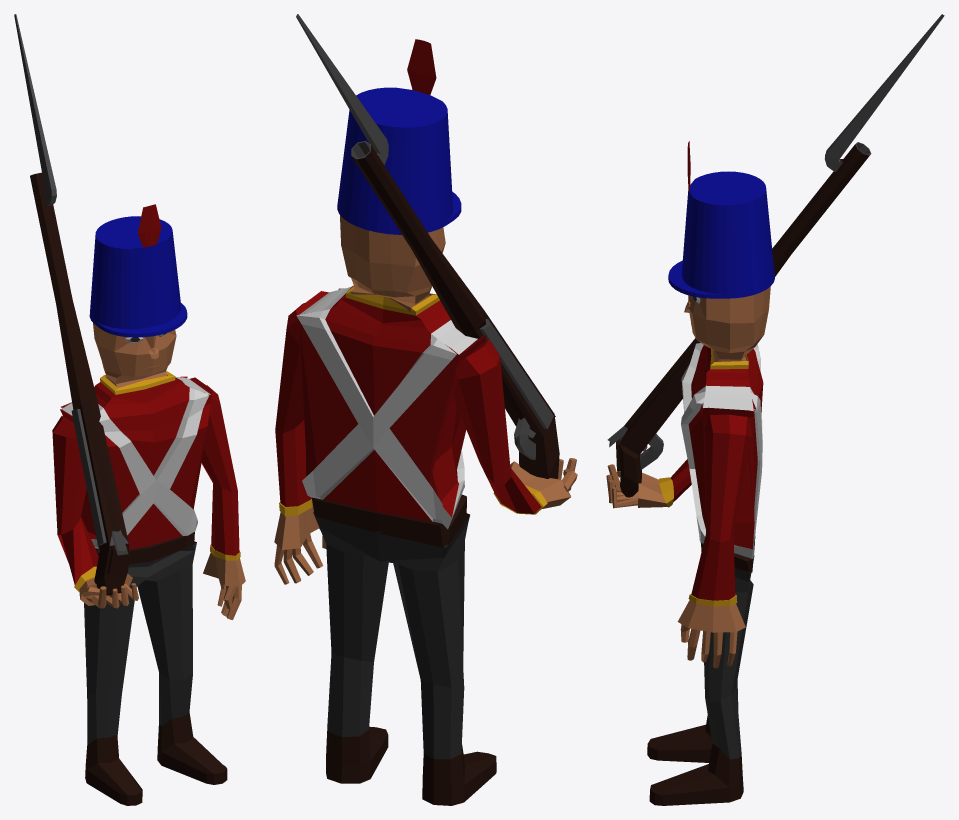
The model's file is Frame4.obj.
The picture shows the model from 3 angles, left to right: view 1: azimuth 30°, elevation 25°; view 2: azimuth 150°, elevation 25°; view 3: azimuth 270°, elevation 25°; orthographic projection. The views are drawn at different scales.
Parts seen in each view (by area): view 1: {Man}_Circle, {Mesket}_Cube.001; view 2: {Man}_Circle, {Mesket}_Cube.001; view 3: {Man}_Circle, {Mesket}_Cube.001.
Part boxes in pixels (x1,y1,x2,y2): {Man}_Circle: (52, 204, 245, 805); {Mesket}_Cube.001: (14, 14, 129, 595); {Man}_Circle: (274, 39, 577, 805); {Mesket}_Cube.001: (296, 14, 559, 479); {Man}_Circle: (606, 141, 774, 805); {Mesket}_Cube.001: (607, 14, 944, 497).
Size of the model in its own units: 5.77 by 19.52 by 7.99.
